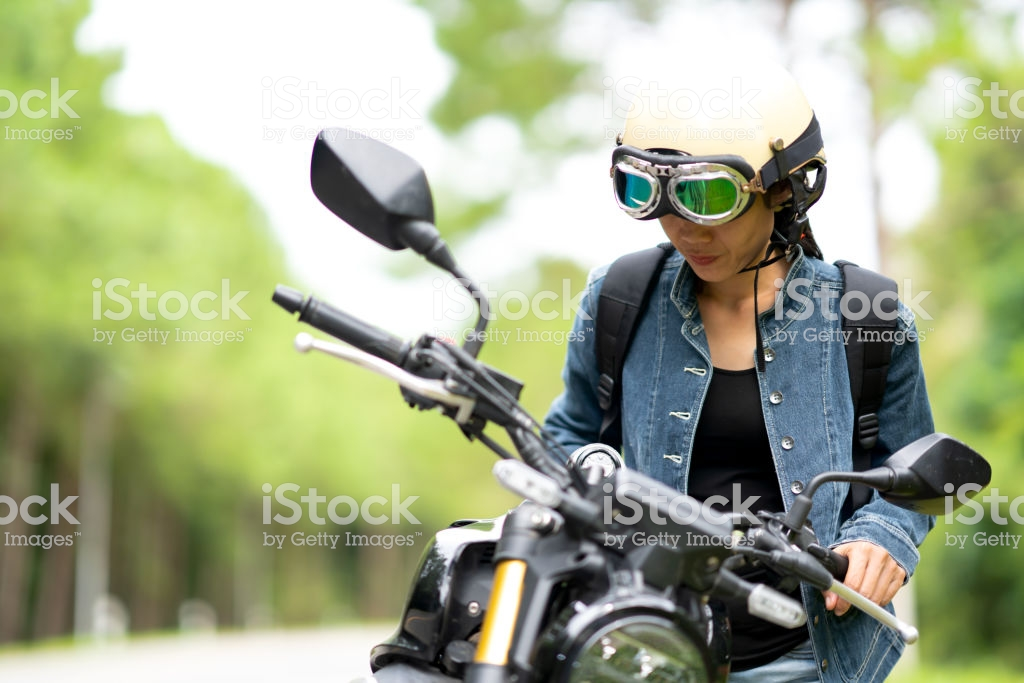helmet: (606, 40, 815, 194)
